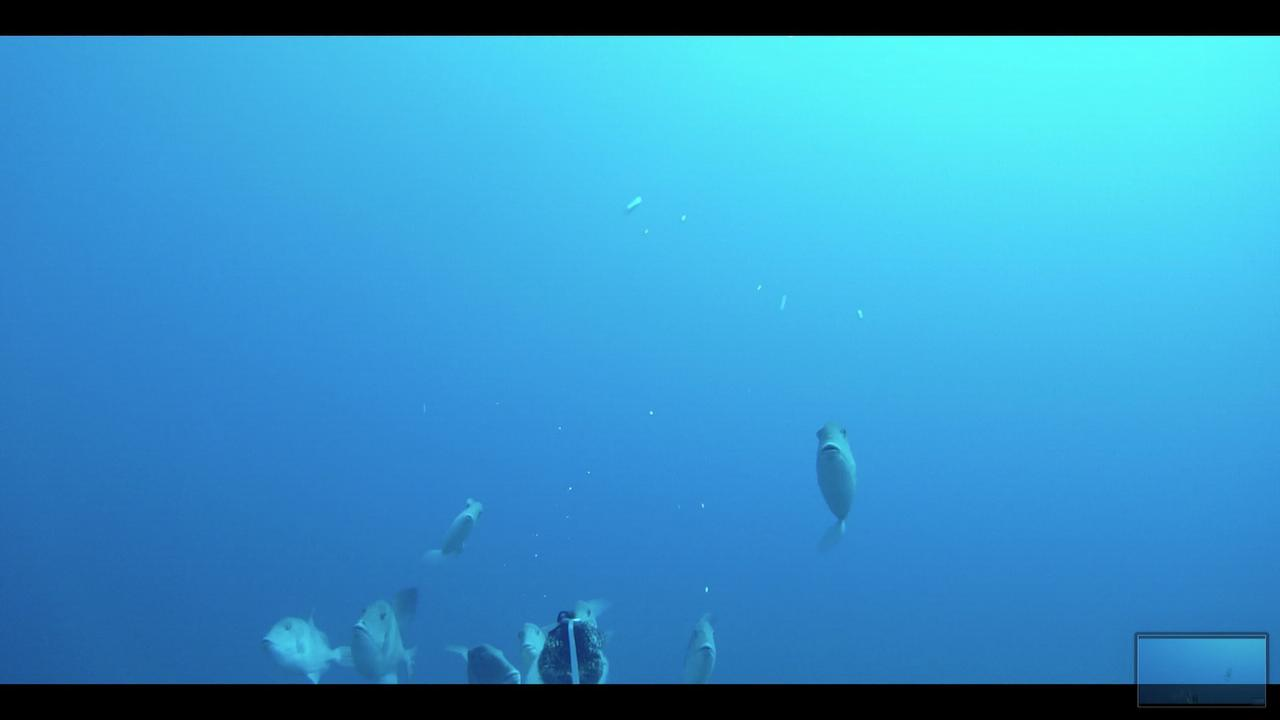balistes: (806, 413, 874, 551), (242, 604, 347, 683), (348, 582, 428, 682), (413, 490, 492, 569), (665, 604, 735, 680), (438, 637, 526, 683)
